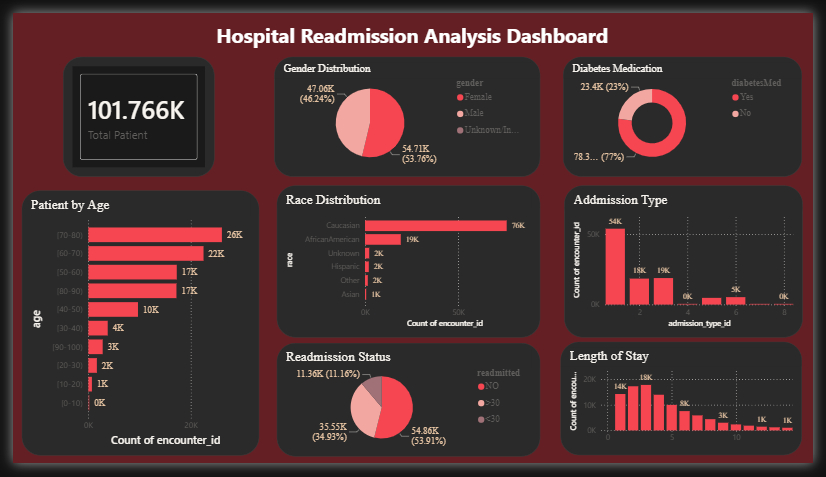

The page's visual inventory and layout, read from the dashboard file:
{"tool":"powerbi","page":{"name":"Page 1","canvas":[1280,720],"ordinal":0},"visuals":[{"type":"cardVisual","fields":{"Data":["CountNonNull(clean_hospital_data.encounter_id)"]},"box":[80.1,69.4,242.1,192.2],"z":0},{"type":"pieChart","title":"Readmission Status","fields":{"Category":["clean_hospital_data.readmitted"],"Y":["CountNonNull(clean_hospital_data.encounter_id)"]},"box":[421.7,528.3,421.7,181.7],"z":1000},{"type":"clusteredBarChart","title":"Patient by Age","fields":{"Category":["clean_hospital_data.age"],"Y":["CountNonNull(clean_hospital_data.encounter_id)"]},"box":[14,284,380,424],"z":2000},{"type":"pieChart","title":"Gender Distribution","fields":{"Category":["clean_hospital_data.gender"],"Y":["CountNonNull(clean_hospital_data.encounter_id)"]},"box":[418.2,69.4,425.4,192.2],"z":3000},{"type":"clusteredBarChart","title":"Race Distribution","fields":{"Category":["clean_hospital_data.race"],"Y":["CountNonNull(clean_hospital_data.encounter_id)"]},"box":[421.7,275,421.7,243.3],"z":4000},{"type":"columnChart","title":"Length of Stay","fields":{"Y":["CountNonNull(clean_hospital_data.encounter_id)"],"Category":["clean_hospital_data.Length_of_Stay"]},"box":[876.7,525,386.7,181.7],"z":5000},{"type":"donutChart","title":"Diabetes Medication","fields":{"Category":["clean_hospital_data.diabetesMed"],"Y":["CountNonNull(clean_hospital_data.encounter_id)"]},"box":[881,69.4,382.7,192.2],"z":6000},{"type":"clusteredColumnChart","title":"Addmission Type","fields":{"Category":["clean_hospital_data.admission_type_id"],"Y":["CountNonNull(clean_hospital_data.encounter_id)"]},"box":[881.7,275,381.7,243.3],"z":7000},{"type":"textbox","box":[14.2,7.1,1249.4,53.4],"z":8000}]}

Visuals, with their boxes in screenshot pixels (x1, y1, x2, y2), scaled from the page's 1280x720 canvas onto the 826x477 screenshot:
cardVisual - CountNonNull(clean_hospital_data.encounter_id): locate(52, 46, 208, 173)
"Readmission Status" pieChart: locate(272, 350, 544, 470)
"Patient by Age" clusteredBarChart: locate(9, 188, 254, 469)
"Gender Distribution" pieChart: locate(270, 46, 544, 173)
"Race Distribution" clusteredBarChart: locate(272, 182, 544, 343)
"Length of Stay" columnChart: locate(566, 348, 815, 468)
"Diabetes Medication" donutChart: locate(569, 46, 815, 173)
"Addmission Type" clusteredColumnChart: locate(569, 182, 815, 343)
textbox: locate(9, 5, 815, 40)
